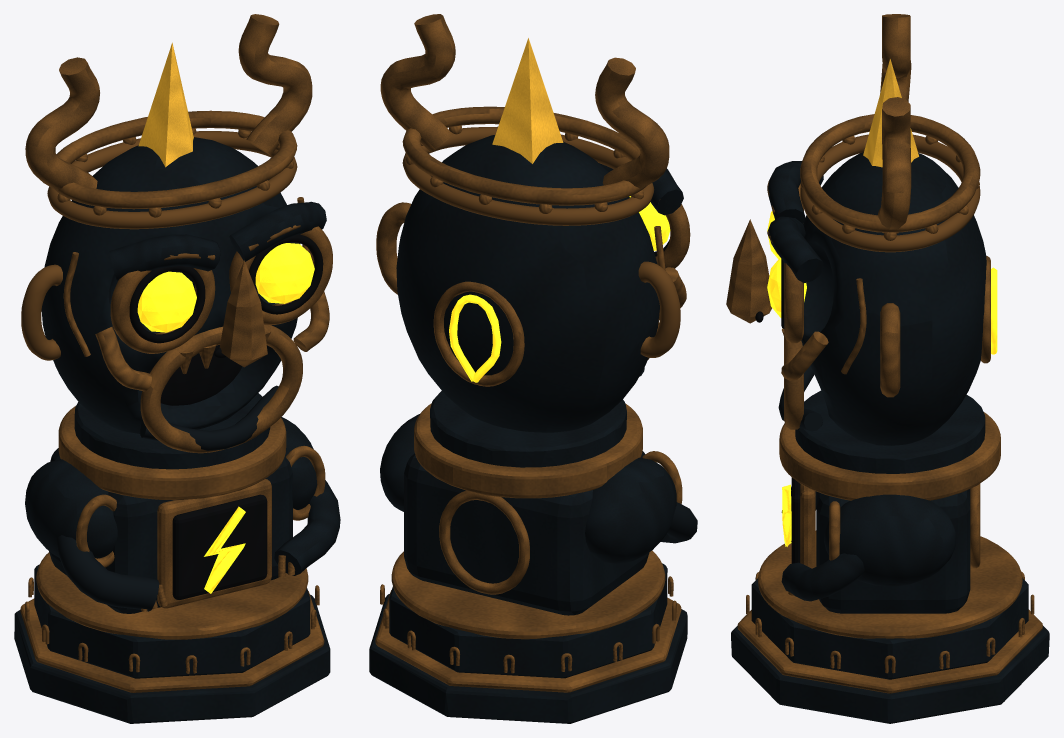
Rendered from Totem_Raio.glb.
3 views of the same model, side by side, from view 1: azimuth 30°, elevation 25°; view 2: azimuth 150°, elevation 25°; view 3: azimuth 270°, elevation 25° (orthographic). The views are drawn at different scales.
Visible parts, largest first — view 1: Totem_Raio; view 2: Totem_Raio; view 3: Totem_Raio.
Part boxes in pixels (left/top/right/bottom): Totem_Raio: left=14, top=14, right=340, bottom=723; Totem_Raio: left=369, top=14, right=697, bottom=723; Totem_Raio: left=726, top=14, right=1049, bottom=723.
Bounding box in the file's own units: 2.18 × 4.31 × 2.1.
Materials: 5 (5 with a texture image).
